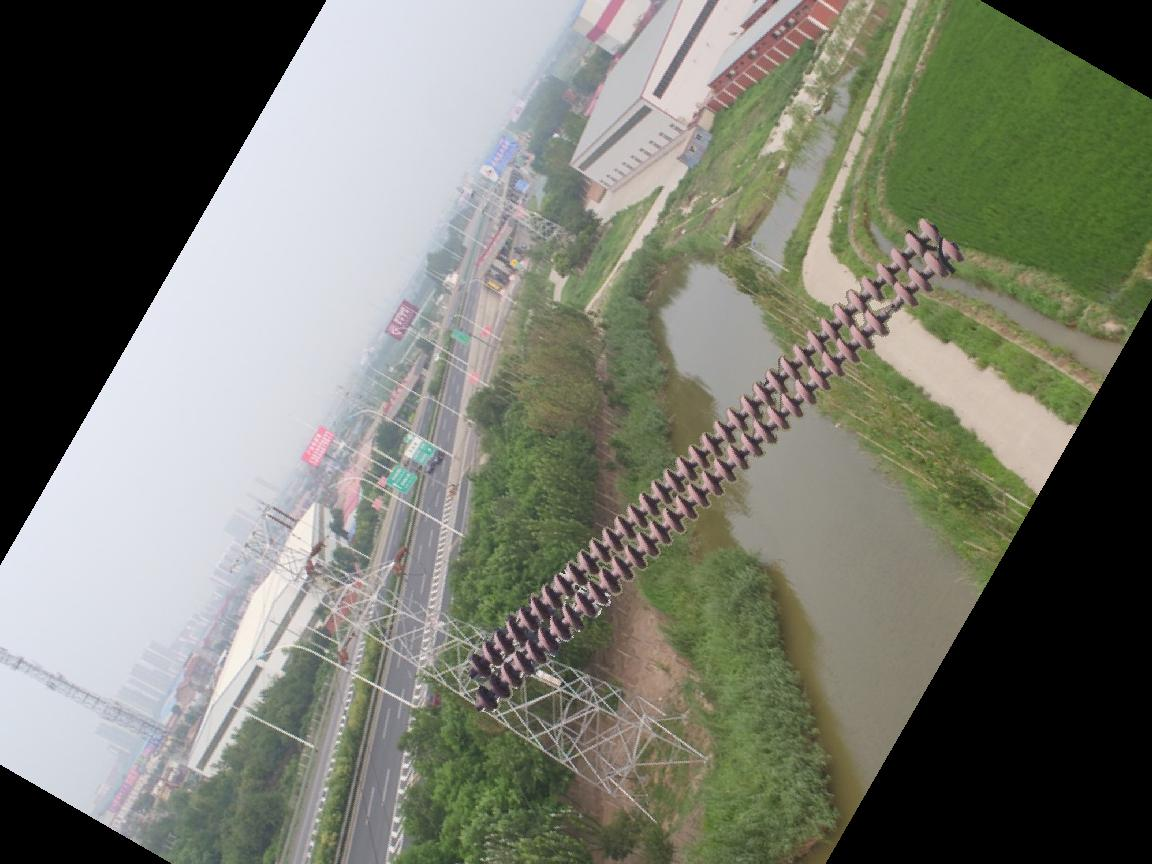insulator: (458, 210, 959, 714)
insulator_stringdrop: (862, 278, 920, 338)
